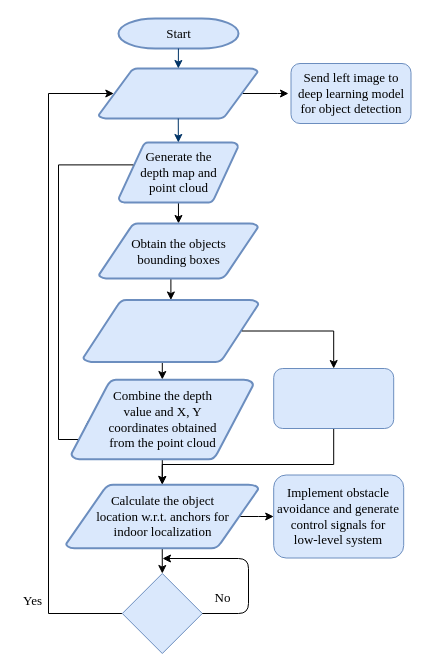
This 428x671 diagram has some shape labels left out. Each missing label, with the box of its shape:
Calculate the center point of the object and get depth: (82, 298, 259, 362)
Capture the left and right images: (97, 67, 258, 119)
New Image: (121, 572, 202, 654)
Obtain the current drone location: (273, 368, 394, 428)
